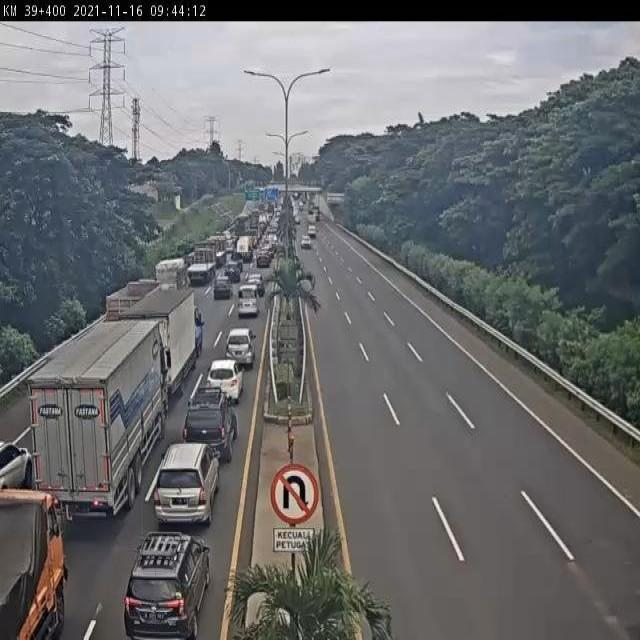Car: (123, 532, 210, 640), (155, 442, 222, 527), (181, 386, 238, 465), (207, 358, 246, 404), (0, 439, 33, 489), (225, 328, 257, 371), (243, 274, 265, 297), (212, 276, 232, 300), (224, 261, 241, 282), (256, 250, 270, 267), (301, 235, 311, 249)
Truck: (24, 319, 173, 520), (0, 487, 71, 640), (123, 285, 206, 397), (104, 278, 158, 318), (155, 257, 191, 295), (188, 242, 217, 280), (209, 234, 227, 265), (237, 233, 254, 260)
Van: (237, 285, 259, 316)
